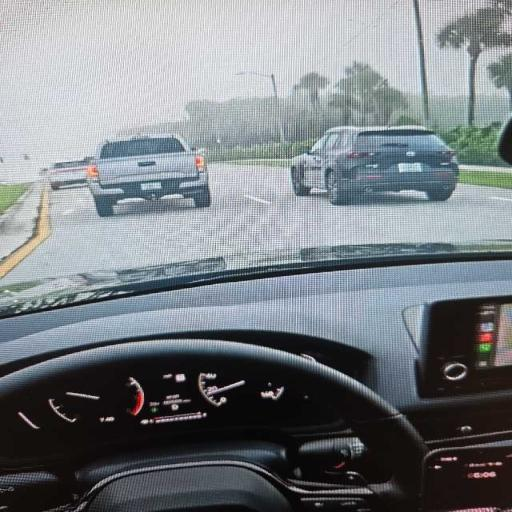car: (292, 127, 458, 204), (88, 135, 211, 216), (48, 158, 91, 190)
lane: (0, 164, 511, 283)
